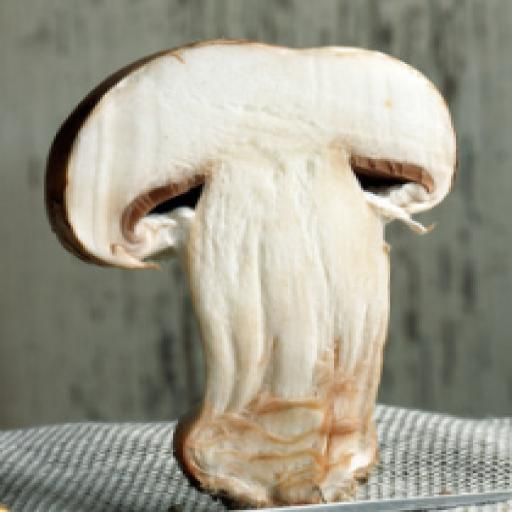Button Mushroom: (39, 34, 466, 504)
